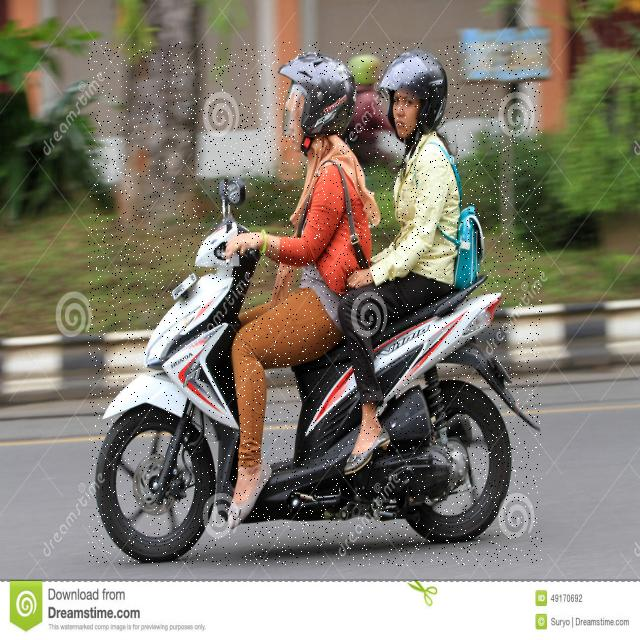With Helmet: (88, 42, 542, 566)
